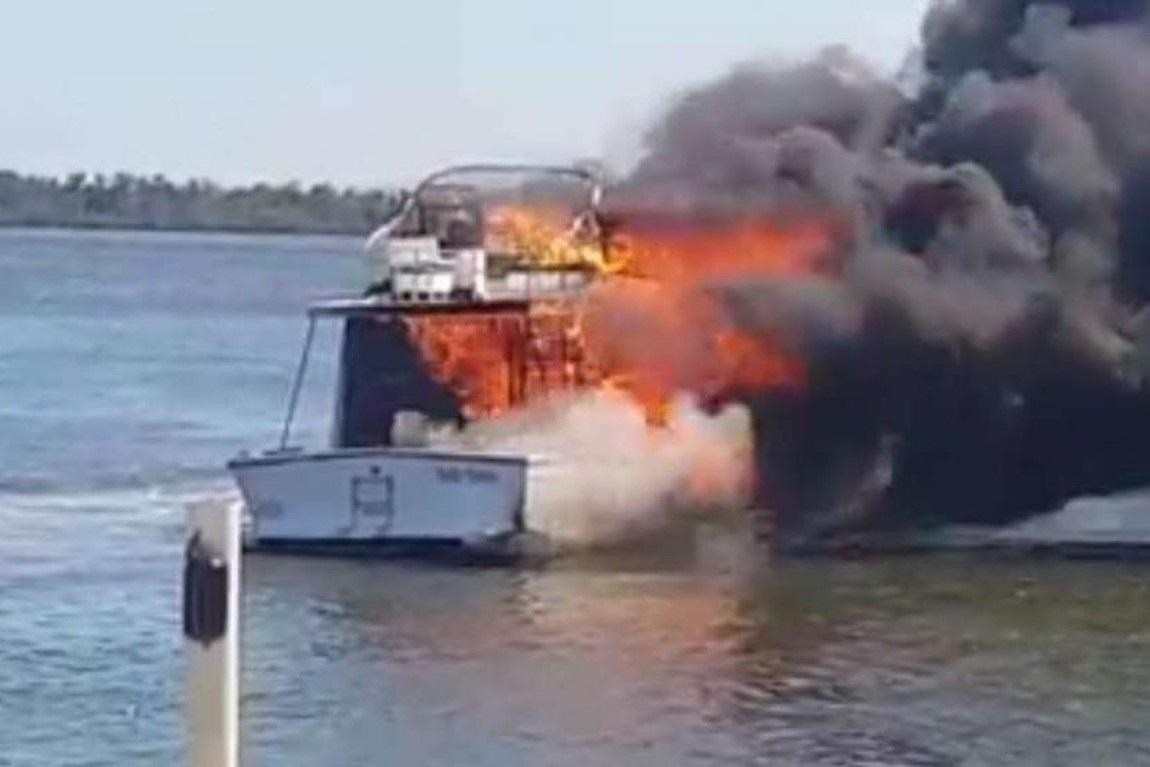Fire: (395, 293, 671, 422), (485, 195, 646, 290)
